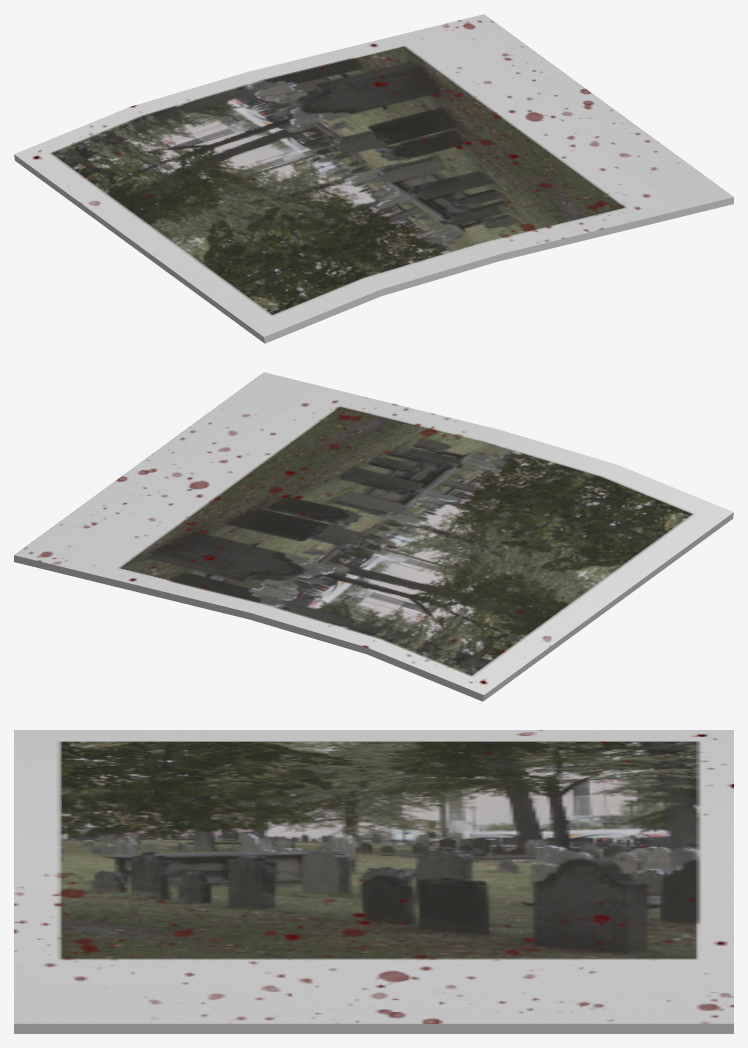
The model's file is ITEMS5.fbx.
3 views of the same model, one above another, from view 1: azimuth 30°, elevation 25°; view 2: azimuth 150°, elevation 25°; view 3: azimuth 270°, elevation 25° (orthographic). The views are drawn at different scales.
Parts seen in each view (by area): view 1: ITEMS5; view 2: ITEMS5; view 3: ITEMS5.
Part boxes in pixels (left/top/right/bottom): ITEMS5: left=14, top=14, right=733, bottom=343; ITEMS5: left=14, top=372, right=733, bottom=701; ITEMS5: left=14, top=730, right=733, bottom=1033.
Bounding box in the file's own units: 16.75 × 1.1 × 15.43.
Materials: 1 (1 with a texture image).
